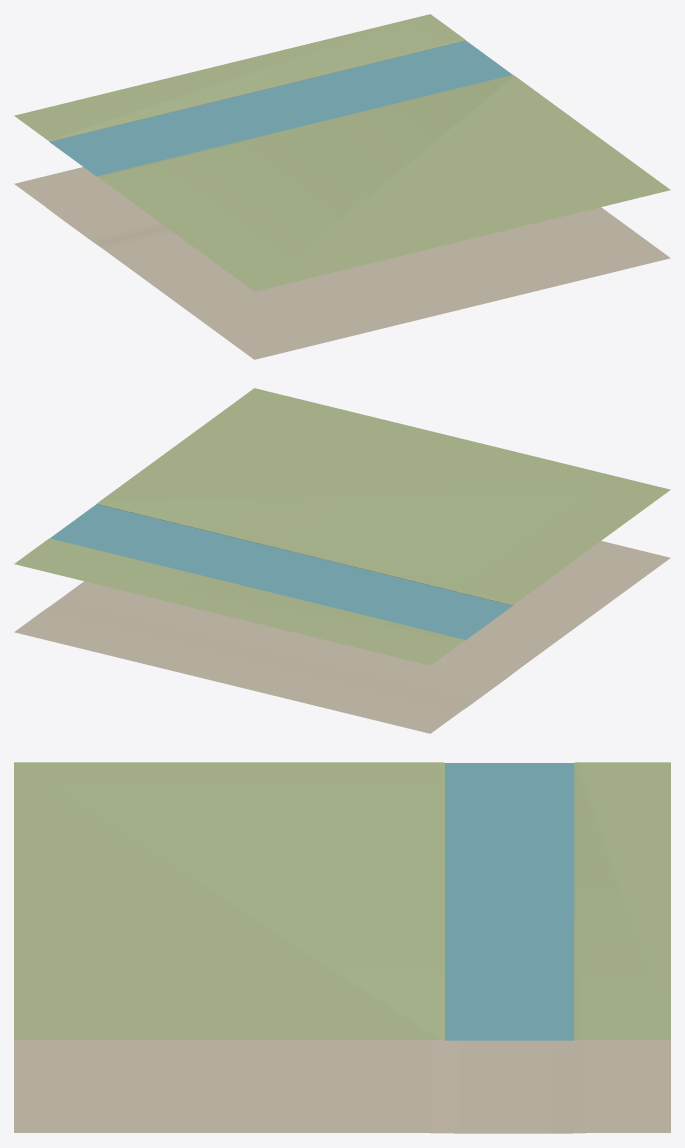
The picture shows the model from 3 angles, top to bottom: view 1: azimuth 30°, elevation 25°; view 2: azimuth 150°, elevation 25°; view 3: azimuth 270°, elevation 25°; orthographic projection. The views are drawn at different scales.
Parts seen in each view (by area): view 1: s_9_-7__grass, s_9_-7__soil, s_9_-7__water; view 2: s_9_-7__grass, s_9_-7__soil, s_9_-7__water; view 3: s_9_-7__grass, s_9_-7__soil, s_9_-7__water.
Boxes of the visible parts, x1,y1,x2,y2 form: s_9_-7__grass: (14, 14, 670, 291); s_9_-7__soil: (14, 167, 670, 359); s_9_-7__water: (50, 40, 512, 176); s_9_-7__grass: (14, 388, 670, 665); s_9_-7__soil: (14, 541, 670, 733); s_9_-7__water: (50, 504, 512, 639); s_9_-7__grass: (14, 762, 670, 1040); s_9_-7__soil: (14, 1040, 670, 1133); s_9_-7__water: (445, 763, 574, 1040).
Bounding box in the file's own units: 128 × 20.14 × 128.
